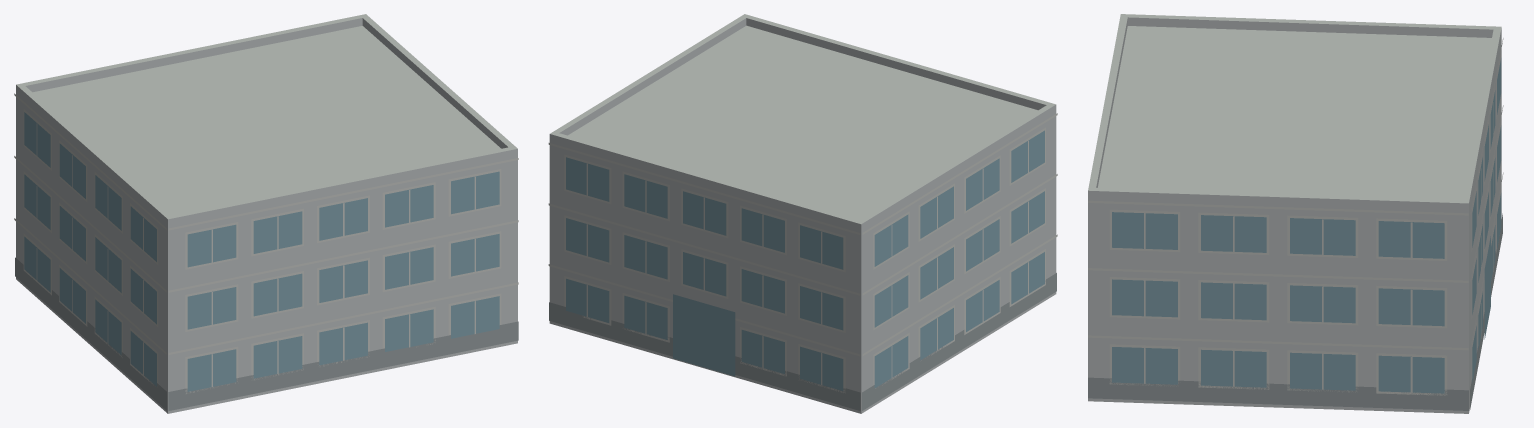
Rendered from public-b5ede38b-861f-4d85-9a03-1076e5174037.glb.
3 views of the same model, side by side, from view 1: azimuth 30°, elevation 25°; view 2: azimuth 150°, elevation 25°; view 3: azimuth 270°, elevation 25° (orthographic). The views are drawn at different scales.
Visible parts, largest first — view 1: public-b5ede38b-861f-4d85-9a03-1076e5174037; view 2: public-b5ede38b-861f-4d85-9a03-1076e5174037; view 3: public-b5ede38b-861f-4d85-9a03-1076e5174037.
Part boxes in pixels (bbox=[...]): public-b5ede38b-861f-4d85-9a03-1076e5174037: bbox=[14, 14, 518, 413]; public-b5ede38b-861f-4d85-9a03-1076e5174037: bbox=[548, 14, 1057, 413]; public-b5ede38b-861f-4d85-9a03-1076e5174037: bbox=[1088, 14, 1503, 413].
Bounding box in the file's own units: 17.8 × 9.15 × 17.08.
